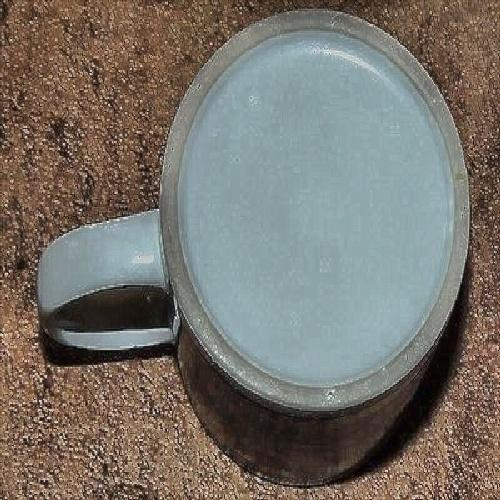mug: (46, 32, 475, 468)
